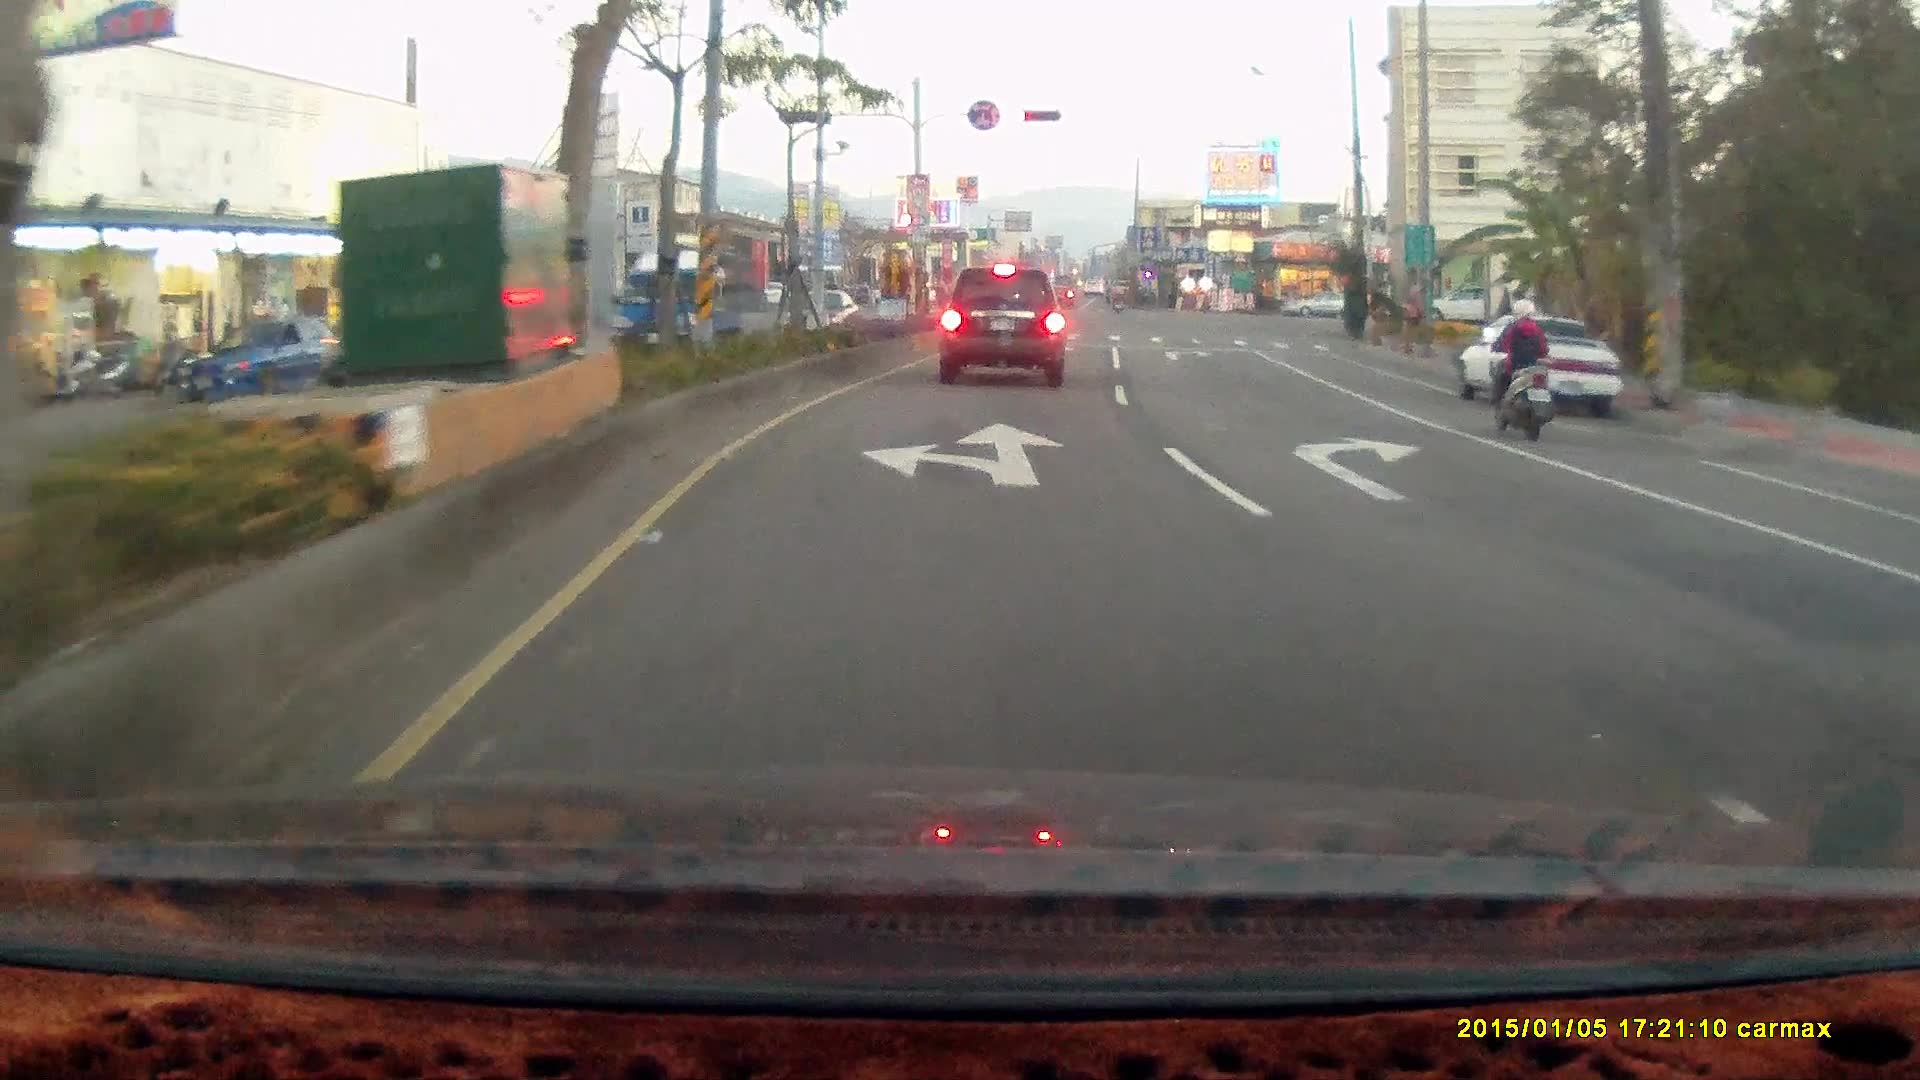rider: (1478, 298, 1557, 442)
vehicle: (1453, 312, 1622, 420), (1464, 321, 1627, 418), (938, 268, 1066, 387), (174, 314, 347, 401), (608, 248, 749, 353), (1896, 493, 1920, 836), (1883, 528, 1920, 690), (1419, 282, 1517, 327), (1281, 290, 1359, 317)
